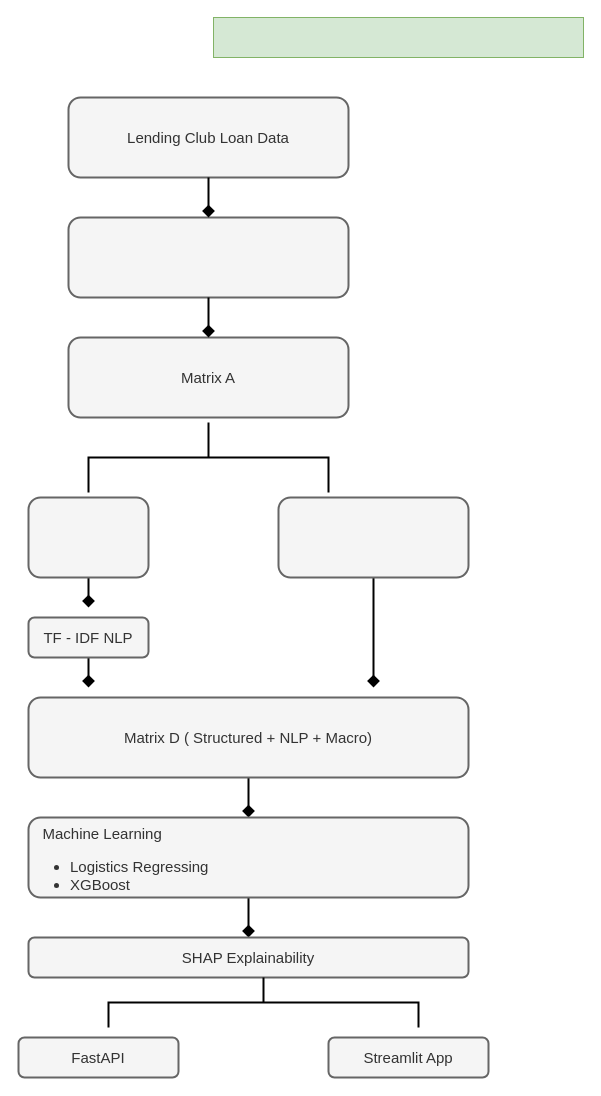
This 601x1096 diagram has some shape labels left out. The box of each missing label's shape, as (x1, y1, x2, y2) in pixels:
Explainable AI Credit Risk Decision Platform: (212, 16, 584, 58)
Loan Title: (27, 496, 149, 578)
Microeconomic Data ( FRED + GDELT ): (277, 496, 469, 578)
Structured Features: (67, 216, 349, 298)
